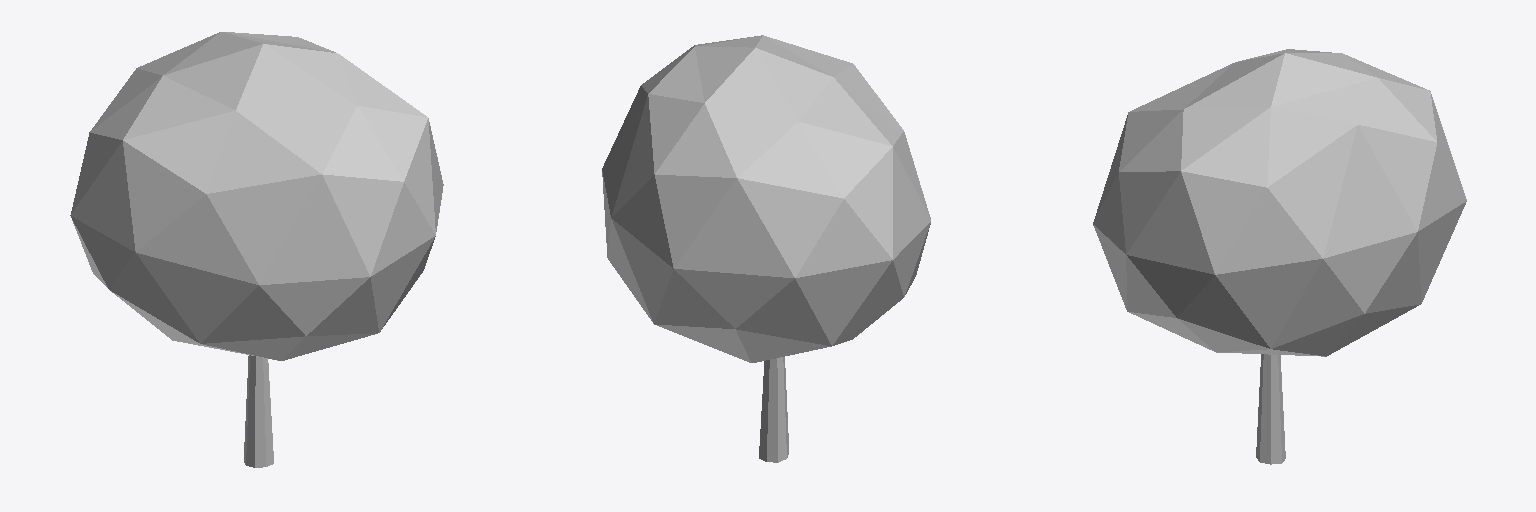
File: tree-ash0.obj
The picture shows the model from 3 angles: view 1: azimuth 30°, elevation 25°; view 2: azimuth 150°, elevation 25°; view 3: azimuth 270°, elevation 25°; orthographic projection.
Parts seen in each view (by area): view 1: stalk_Cube.001; view 2: stalk_Cube.001; view 3: stalk_Cube.001.
Part boxes in pixels (x1,y1,x2,y2): stalk_Cube.001: (70, 32, 443, 467); stalk_Cube.001: (602, 35, 930, 462); stalk_Cube.001: (1093, 49, 1466, 464).
Bounding box in the file's own units: 4.8 × 6.14 × 5.01.